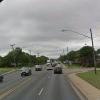Car: (17, 63, 33, 79)
